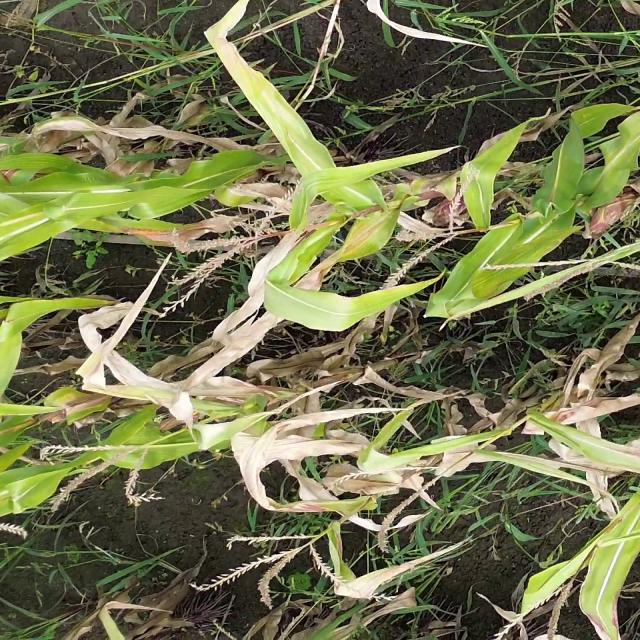northern-leaf-blight: (249, 80, 315, 145), (332, 212, 396, 262)
